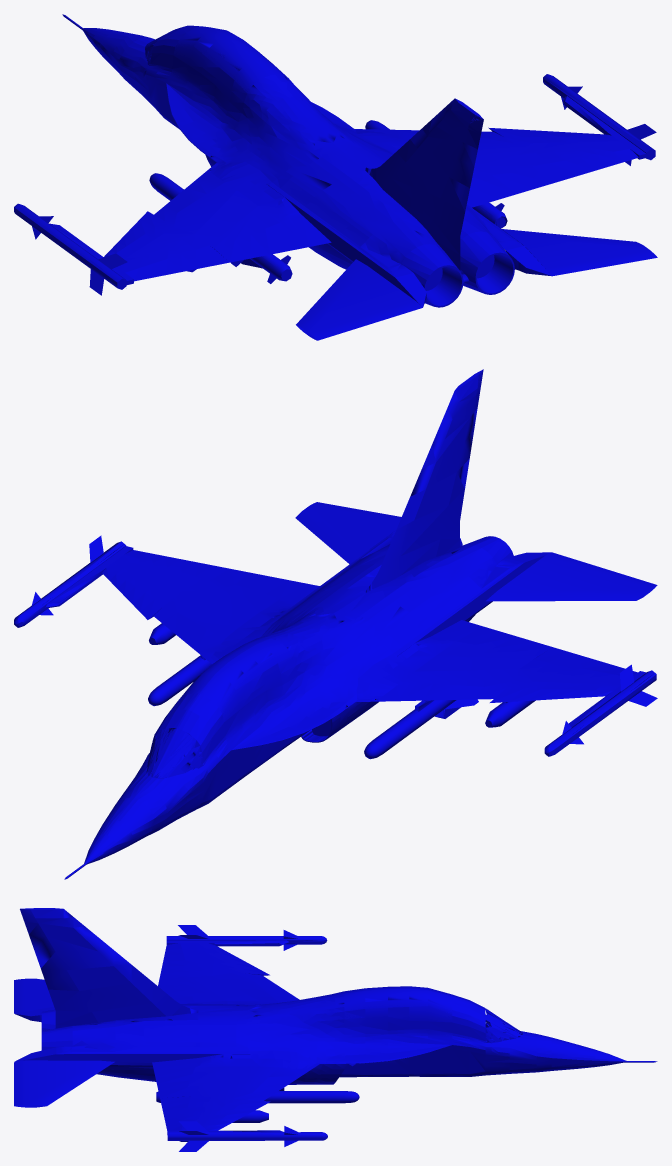
Rendered from blue-jj-10.glb.
The picture shows the model from 3 angles, top to bottom: view 1: azimuth 30°, elevation 25°; view 2: azimuth 150°, elevation 25°; view 3: azimuth 270°, elevation 25°; orthographic projection. The views are drawn at different scales.
Parts seen in each view (by area): view 1: node_ID119_mesh0, node_ID658_mesh0, node_ID22_mesh0, node_ID150_mesh0.001, node_ID414_mesh0, node_ID150_mesh0, node_ID878_mesh0, node_ID360_mesh0, node_ID526_mesh0, node_ID526_mesh0.001; view 2: node_ID119_mesh0, node_ID658_mesh0, node_ID22_mesh0, node_ID414_mesh0, node_ID150_mesh0.001, node_ID150_mesh0, node_ID927_mesh0, node_ID526_mesh0, node_ID424_mesh0, node_ID526_mesh0.001; view 3: node_ID658_mesh0, node_ID22_mesh0, node_ID119_mesh0, node_ID927_mesh0, node_ID150_mesh0, node_ID526_mesh0.001, node_ID150_mesh0.001, node_ID937_mesh0, node_ID414_mesh0.
Part boxes in pixels (<box>): node_ID119_mesh0: <box>14,26,463,307</box>; node_ID658_mesh0: <box>199,26,655,294</box>; node_ID22_mesh0: <box>365,98,482,254</box>; node_ID150_mesh0.001: <box>296,259,422,340</box>; node_ID414_mesh0: <box>82,26,196,127</box>; node_ID150_mesh0: <box>500,228,657,276</box>; node_ID878_mesh0: <box>477,254,513,293</box>; node_ID360_mesh0: <box>425,267,461,305</box>; node_ID526_mesh0: <box>149,173,291,281</box>; node_ID526_mesh0.001: <box>365,120,507,228</box>; node_ID119_mesh0: <box>199,536,656,794</box>; node_ID658_mesh0: <box>14,531,462,771</box>; node_ID22_mesh0: <box>366,369,482,592</box>; node_ID414_mesh0: <box>85,693,231,864</box>; node_ID150_mesh0.001: <box>486,552,657,601</box>; node_ID150_mesh0: <box>295,502,401,564</box>; node_ID927_mesh0: <box>84,693,198,863</box>; node_ID526_mesh0: <box>364,700,456,759</box>; node_ID424_mesh0: <box>153,728,203,777</box>; node_ID526_mesh0.001: <box>148,655,211,706</box>; node_ID658_mesh0: <box>15,988,452,1140</box>; node_ID22_mesh0: <box>20,908,198,1025</box>; node_ID119_mesh0: <box>14,936,452,1030</box>; node_ID927_mesh0: <box>452,996,626,1076</box>; node_ID150_mesh0: <box>14,1054,114,1107</box>; node_ID526_mesh0.001: <box>156,1091,359,1103</box>; node_ID150_mesh0.001: <box>14,978,53,1013</box>; node_ID937_mesh0: <box>485,1010,522,1043</box>; node_ID414_mesh0: <box>452,994,622,1059</box>.
Size of the model in its own units: 13 by 4.77 by 17.19.
